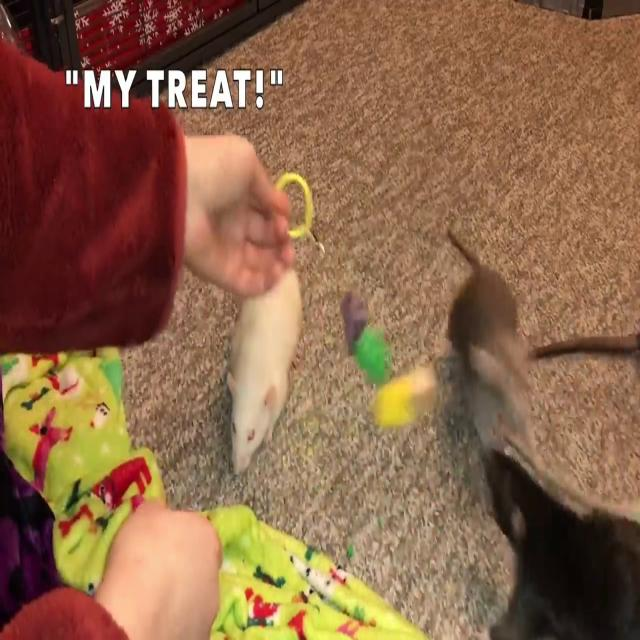rat: (449, 237, 541, 452), (215, 301, 303, 473)
